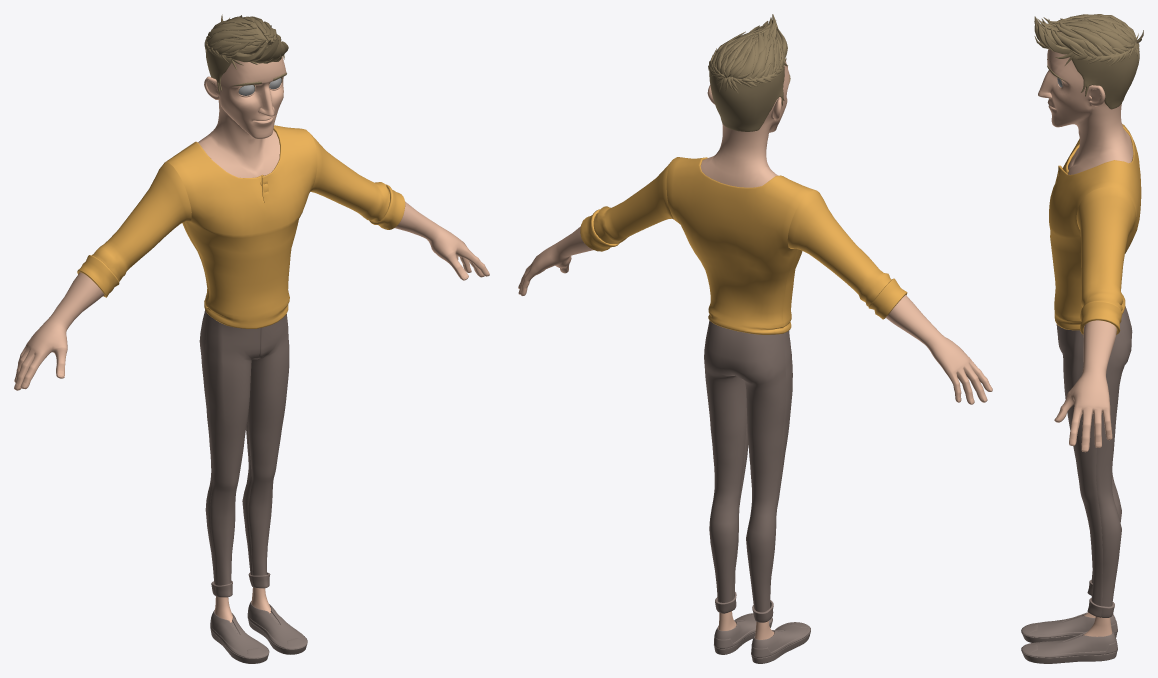
File: teen.fbx
The picture shows the model from 3 angles, left to right: view 1: azimuth 30°, elevation 25°; view 2: azimuth 150°, elevation 25°; view 3: azimuth 270°, elevation 25°; orthographic projection. The views are drawn at different scales.
Visible parts, largest first — view 1: jls_anim_shirt_geo, jls_anim_trousers_geo, jls_anim_body_geo, jls_anim_hair_geo, jls_anim_lf_shoe_geo, jls_anim_rt_shoe_geo; view 2: jls_anim_shirt_geo, jls_anim_trousers_geo, jls_anim_body_geo, jls_anim_hair_geo, jls_anim_rt_shoe_geo, jls_anim_lf_shoe_geo; view 3: jls_anim_shirt_geo, jls_anim_body_geo, jls_anim_trousers_geo, jls_anim_hair_geo, jls_anim_lf_shoe_geo, jls_anim_rt_shoe_geo.
Part boxes in pixels (<box>): jls_anim_shirt_geo: <box>77,125,405,328</box>; jls_anim_trousers_geo: <box>199,310,289,597</box>; jls_anim_body_geo: <box>14,56,489,622</box>; jls_anim_hair_geo: <box>204,14,288,93</box>; jls_anim_lf_shoe_geo: <box>247,601,307,654</box>; jls_anim_rt_shoe_geo: <box>210,610,269,663</box>; jls_anim_shirt_geo: <box>580,157,907,334</box>; jls_anim_trousers_geo: <box>704,320,792,622</box>; jls_anim_body_geo: <box>518,58,992,639</box>; jls_anim_hair_geo: <box>708,14,787,131</box>; jls_anim_rt_shoe_geo: <box>751,622,810,663</box>; jls_anim_lf_shoe_geo: <box>714,613,772,654</box>; jls_anim_shirt_geo: <box>1049,124,1141,334</box>; jls_anim_body_geo: <box>1038,32,1133,636</box>; jls_anim_trousers_geo: <box>1056,306,1132,617</box>; jls_anim_hair_geo: <box>1034,14,1143,109</box>; jls_anim_lf_shoe_geo: <box>1021,631,1117,663</box>; jls_anim_rt_shoe_geo: <box>1021,612,1117,642</box>.
Bounding box in the file's own units: 150 × 189 × 33.17.
